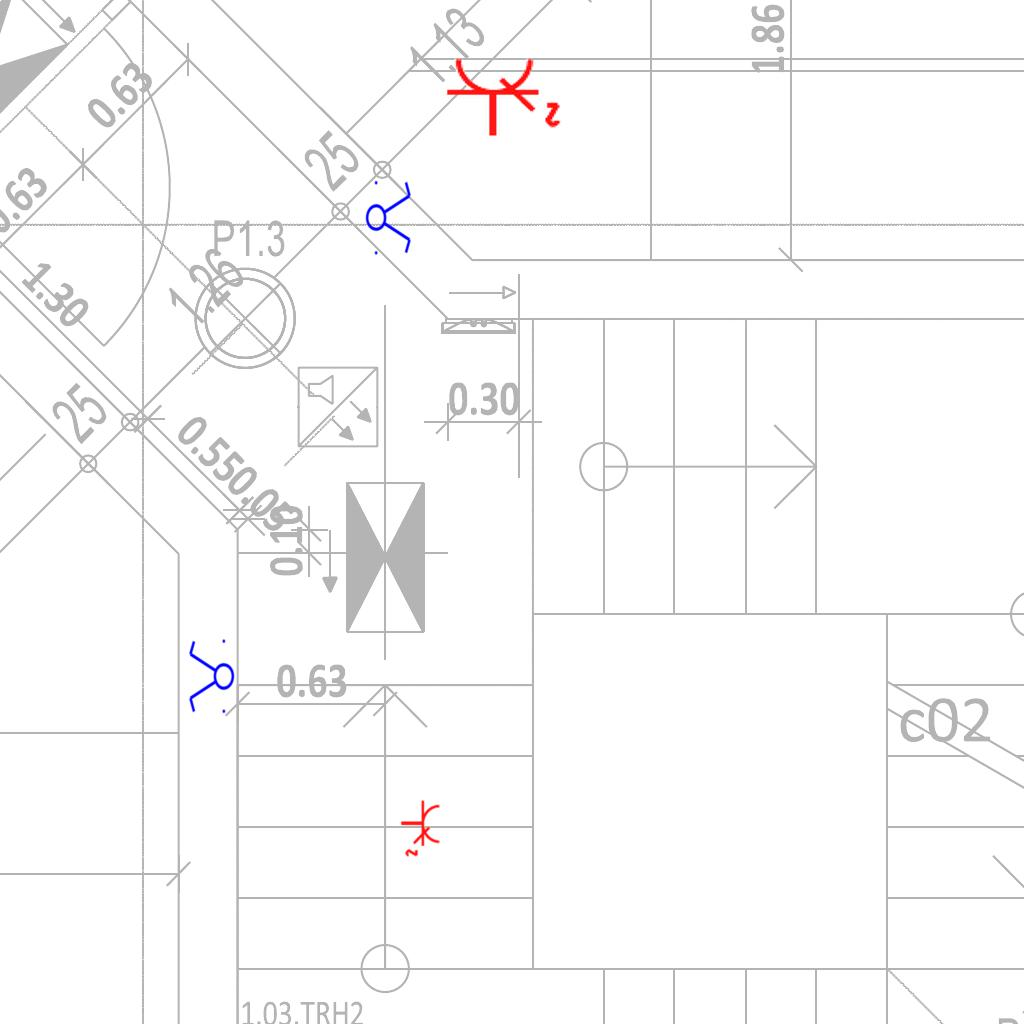Schukosteckdose_mehrfach: (442, 54, 563, 142), (398, 798, 442, 858)
Serienschalter: (365, 175, 413, 259), (187, 635, 235, 719)
